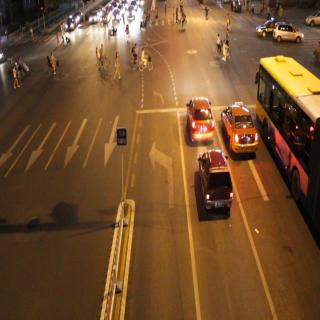BigCar: (253, 36, 320, 240)
Car: (196, 144, 234, 217), (214, 95, 254, 155), (184, 82, 218, 152), (272, 20, 304, 50), (254, 16, 278, 36), (304, 7, 320, 35), (231, 1, 242, 15)
